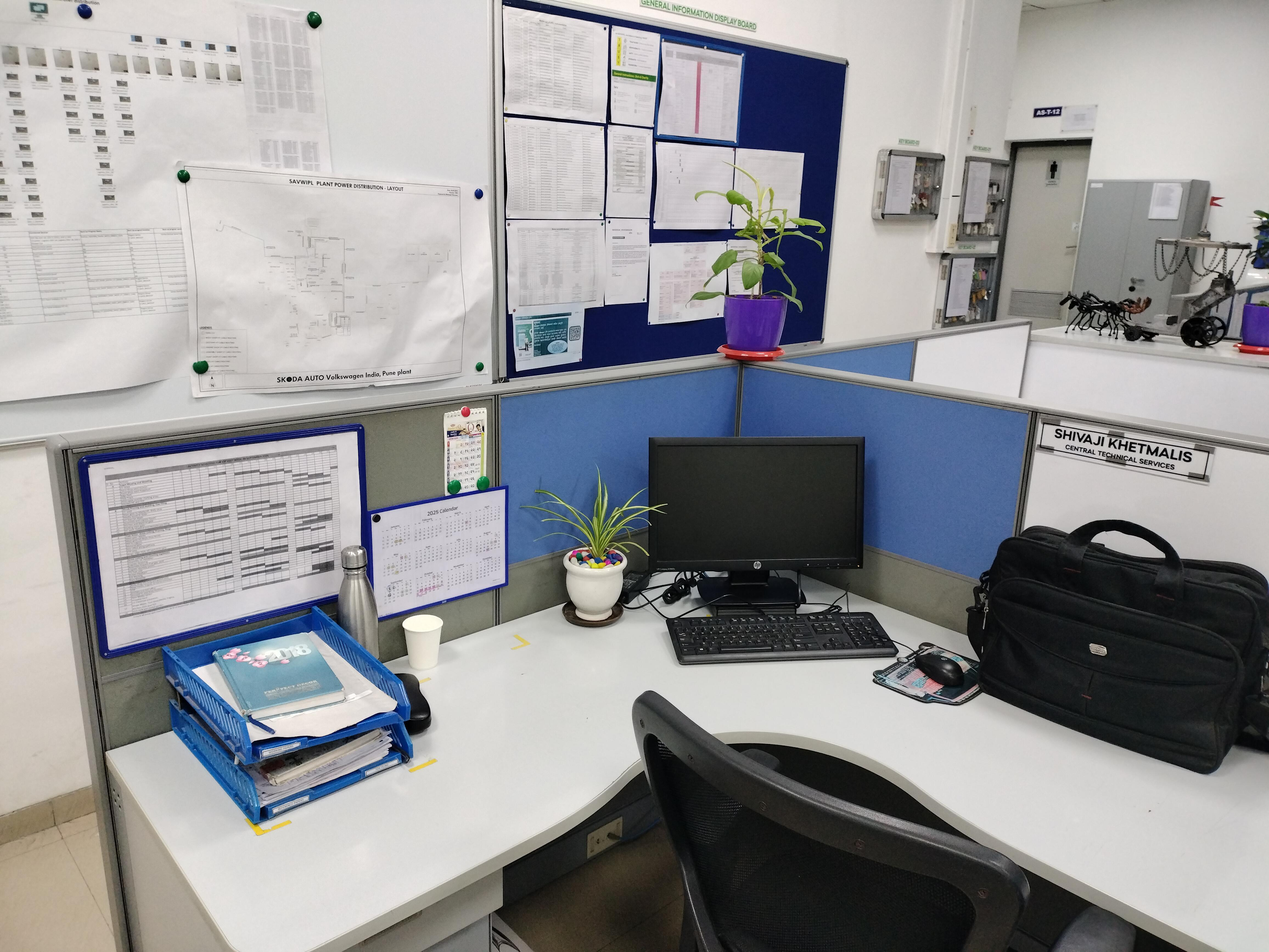bag: (964, 517, 1268, 779)
book: (213, 631, 347, 723), (252, 728, 382, 786)
bottle: (337, 544, 380, 662)
calender: (366, 483, 511, 623), (443, 404, 488, 498)
desktop: (645, 434, 867, 610)
filetray: (162, 604, 416, 827)
keyboard: (662, 610, 902, 667)
mouse: (915, 651, 967, 690)
mug: (402, 613, 446, 672)
nameplate: (1031, 414, 1219, 488)
page: (77, 423, 366, 662), (248, 631, 399, 744), (245, 731, 393, 809), (191, 662, 246, 722)
vase: (561, 546, 628, 622)
